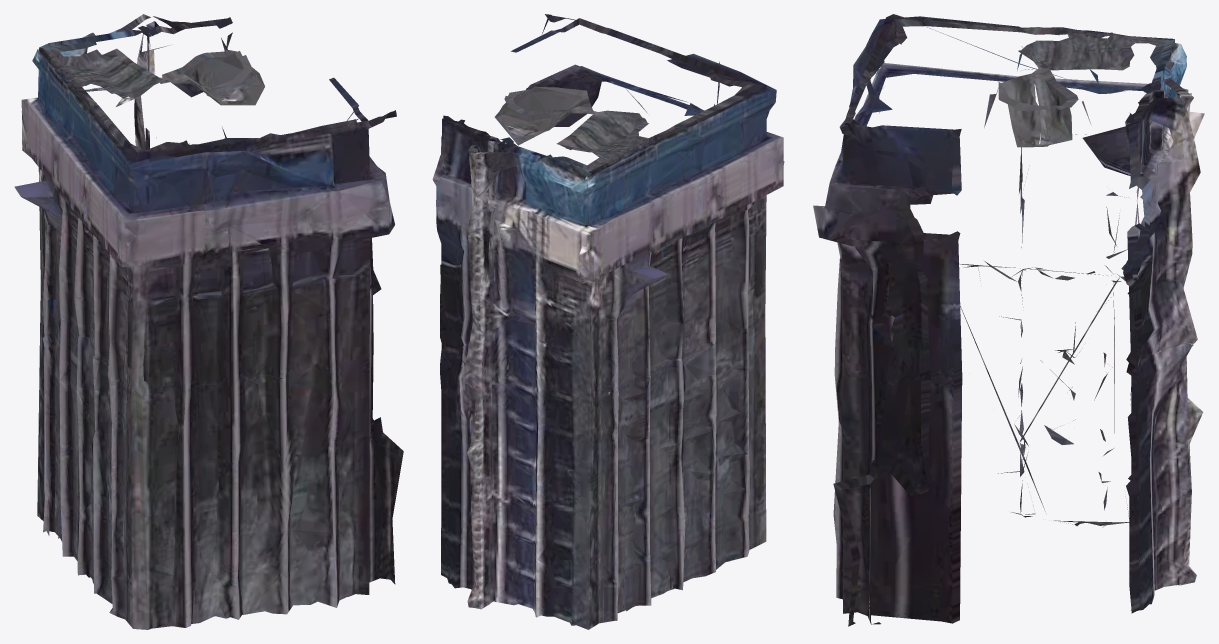
3 renders of one model, left to right at view 1: azimuth 30°, elevation 25°; view 2: azimuth 150°, elevation 25°; view 3: azimuth 270°, elevation 25°, orthographic. The views are drawn at different scales.
Parts seen in each view (by area): view 1: Mesh_0; view 2: Mesh_0; view 3: Mesh_0.
Boxes of the visible parts, <box> form: Mesh_0: <box>14,14,403,629</box>; Mesh_0: <box>432,14,784,629</box>; Mesh_0: <box>813,14,1204,626</box>.
Bounding box in the file's own units: 21.33 × 37.1 × 26.57.
2 materials, 2 textured.
